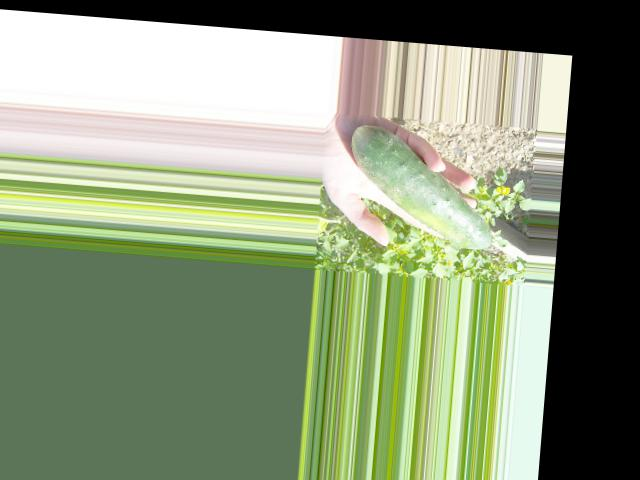cucumber: (344, 124, 501, 250)
